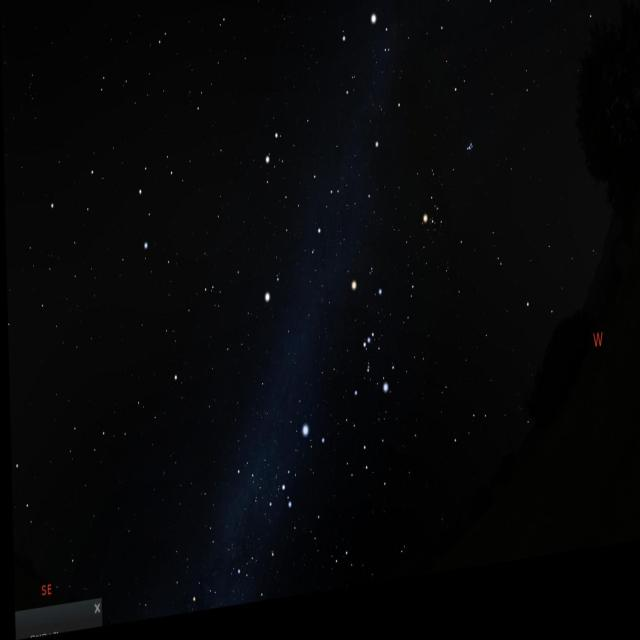canis_major: (277, 425, 326, 528)
canis_minor: (248, 264, 288, 330)
gemini: (250, 117, 352, 281)
leo: (43, 118, 185, 283)
orion: (336, 267, 390, 428)
pleiades: (460, 149, 480, 184)
taurus: (416, 123, 485, 287)
